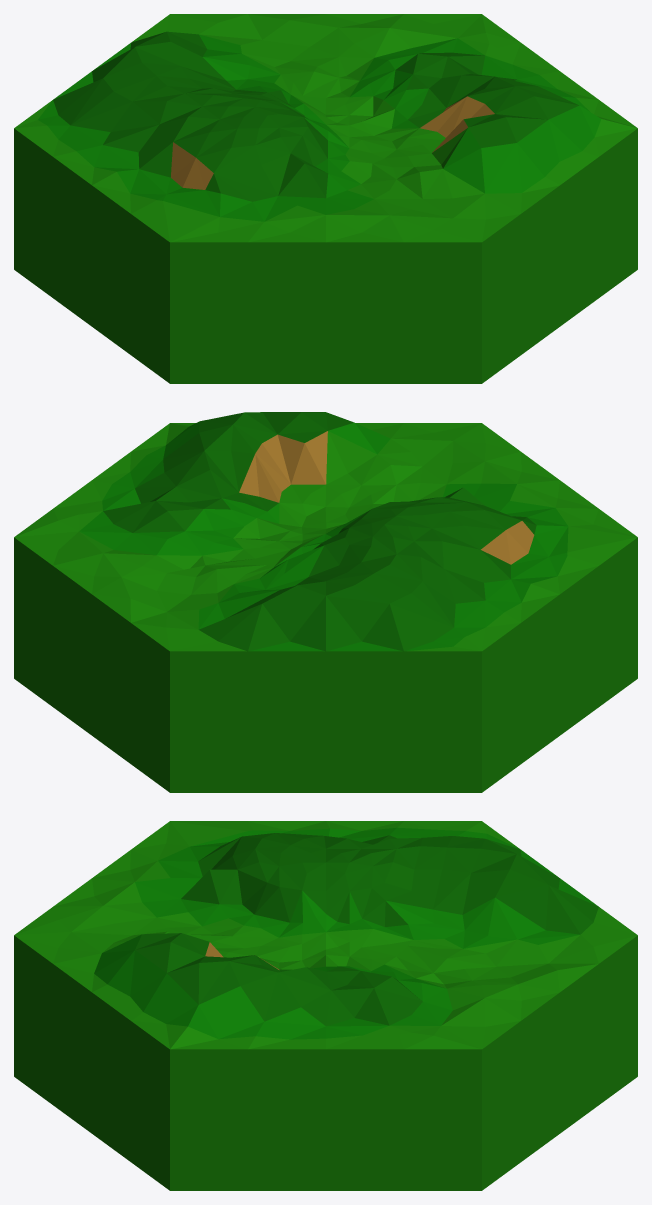
Rendered from HexagonHill1.fbx.
3 views of the same model, one above another, from view 1: azimuth 30°, elevation 25°; view 2: azimuth 150°, elevation 25°; view 3: azimuth 270°, elevation 25° (orthographic).
Visible parts, largest first — view 1: HexagonBase; view 2: HexagonBase; view 3: HexagonBase.
Part boxes in pixels (x1=…): HexagonBase: x1=14, y1=14, x2=637, y2=383; HexagonBase: x1=14, y1=412, x2=637, y2=792; HexagonBase: x1=14, y1=821, x2=637, y2=1190.
Size of the model in its own units: 173 by 200 by 65.22.
